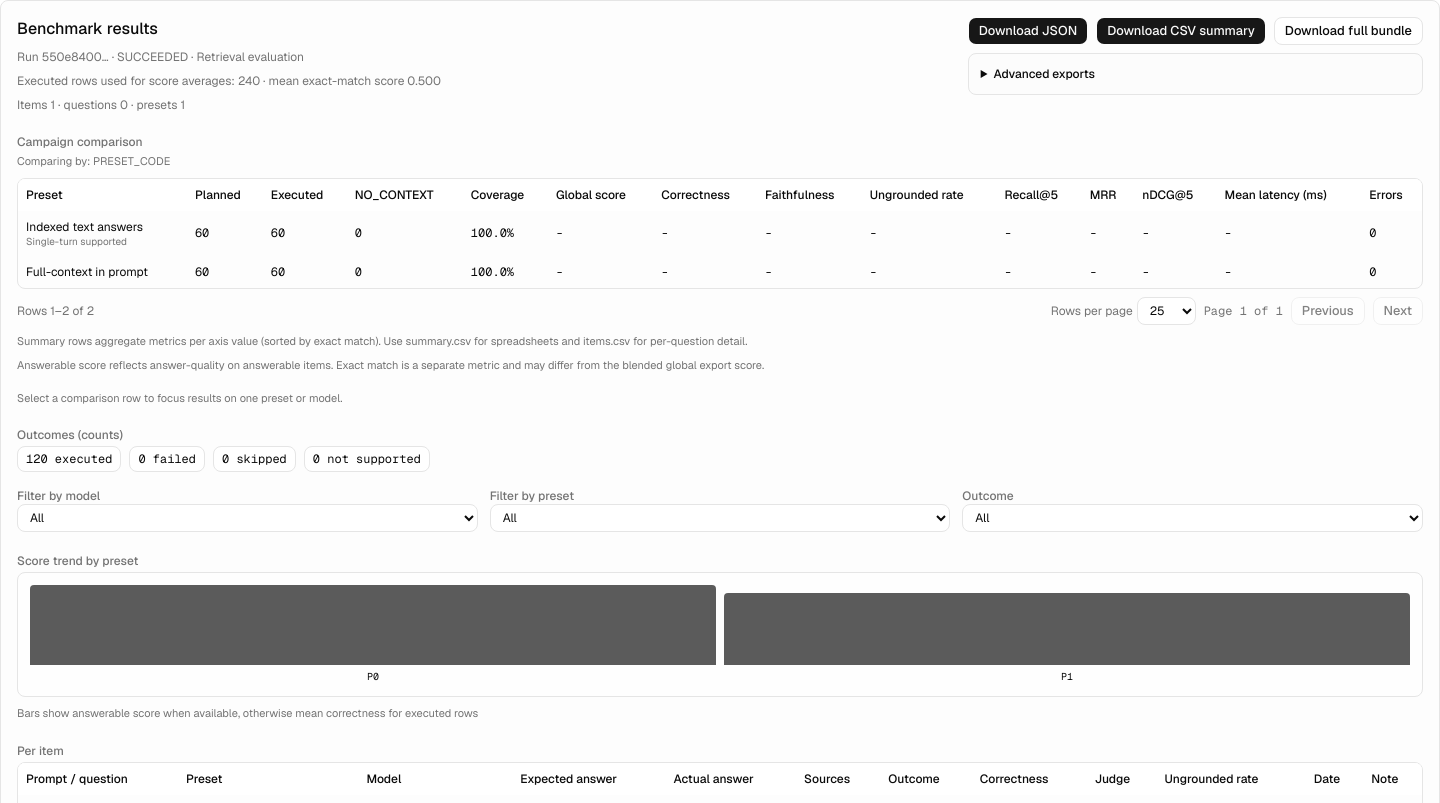
Test: LabBenchmarkResultsPanel › resolves campaignId from run detail when prop is missing
expect the button with test id "lab-export-primary-json" is shown: met, box left=968, top=17, right=1088, bottom=45
expect the element with test id "lab-campaign-comparison-panel" is shown: met, box left=17, top=129, right=1423, bottom=374
Click the heading "Advanced exports": (1044, 74) left=993, top=66, right=1095, bottom=82
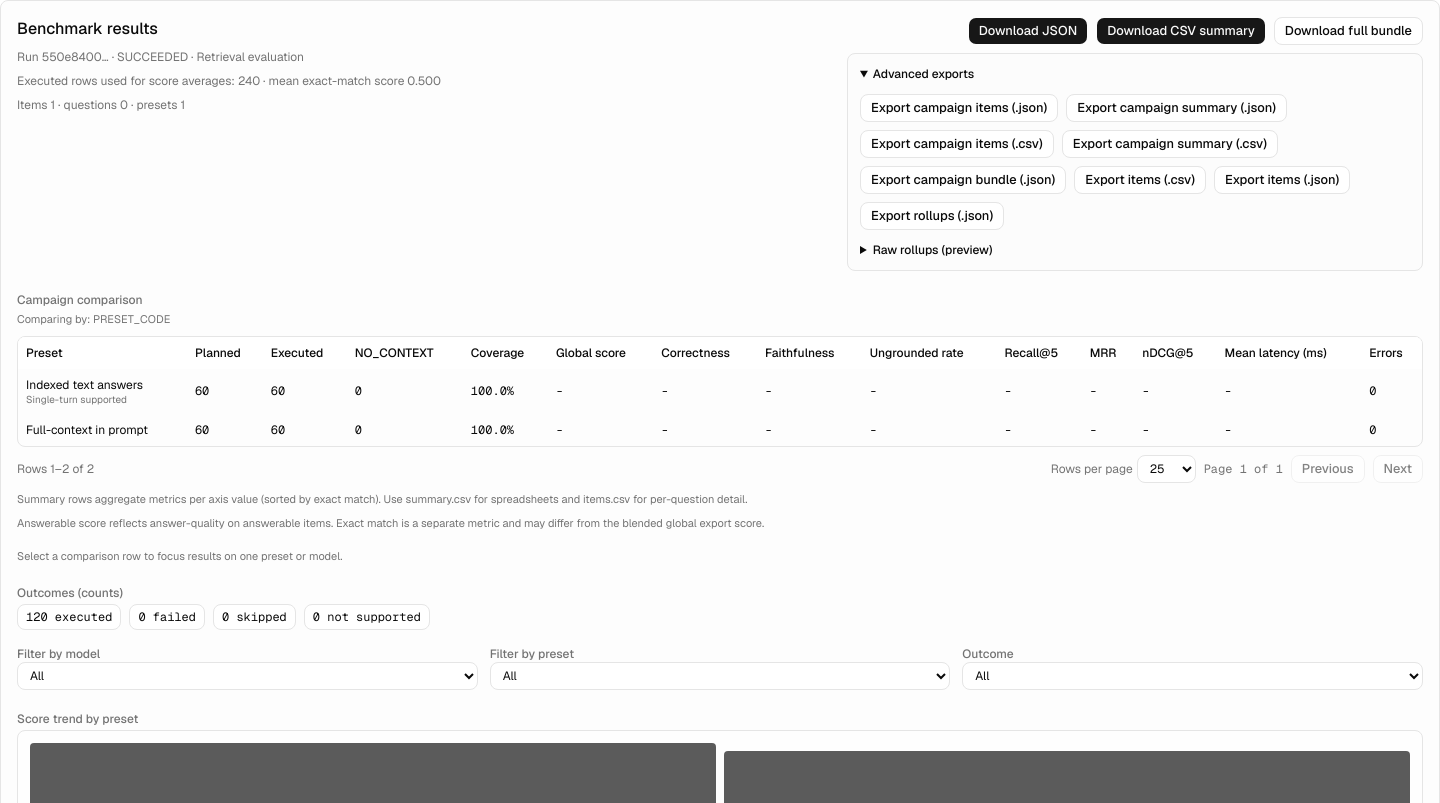
expect the element with test id "lab-rag-comparison-table" is shown: met, box left=17, top=336, right=1423, bottom=447
expect the button with test id "lab-export-campaign-items-json" is shown: met, box left=860, top=94, right=1058, bottom=122
